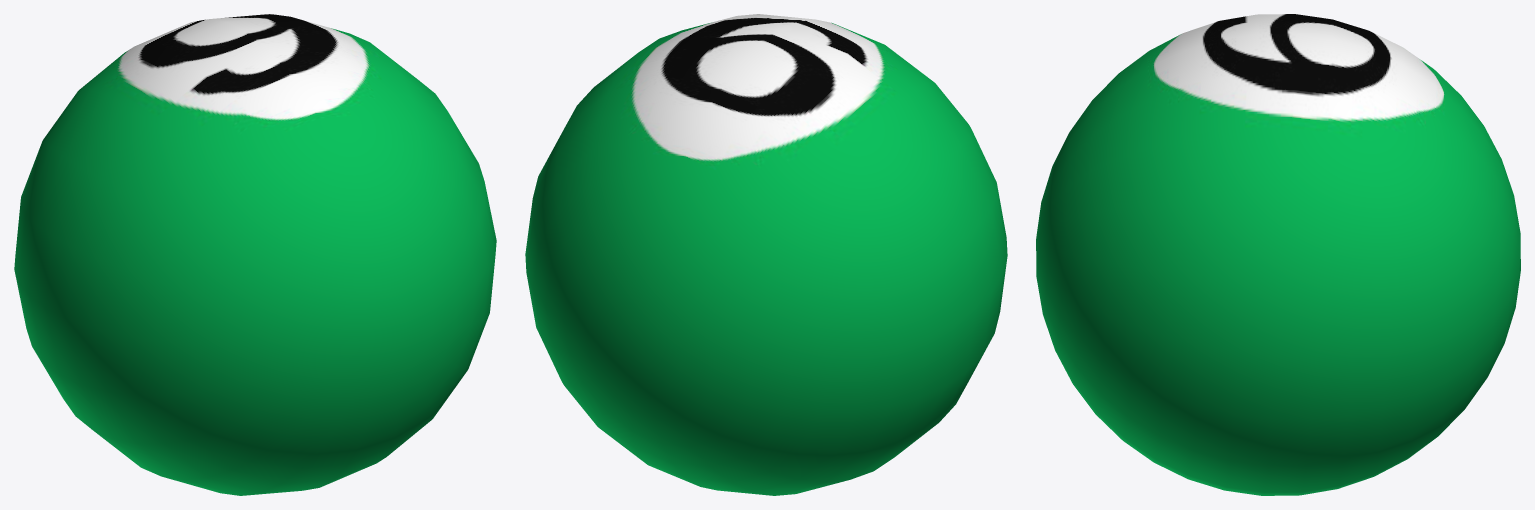
Rendered from Ball6.fbx.
3 views of the same model, side by side, from view 1: azimuth 30°, elevation 25°; view 2: azimuth 150°, elevation 25°; view 3: azimuth 270°, elevation 25° (orthographic).
Parts seen in each view (by area): view 1: pSphere1; view 2: pSphere1; view 3: pSphere1.
Boxes of the visible parts, box(x1,y1,x2,y2) form: pSphere1: box(14, 14, 496, 495); pSphere1: box(525, 14, 1007, 495); pSphere1: box(1036, 14, 1520, 495).
Size of the model in its own units: 2 by 1.99 by 2.
